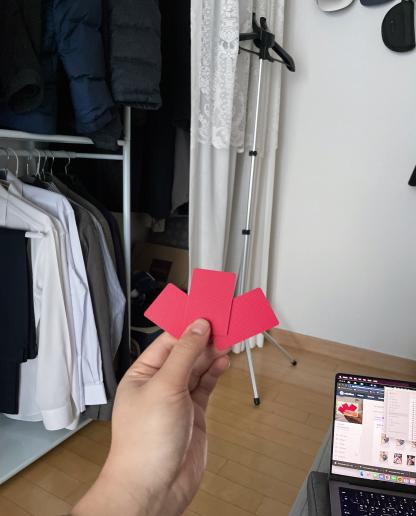ThreeHwatoo: (129, 259, 297, 356)
